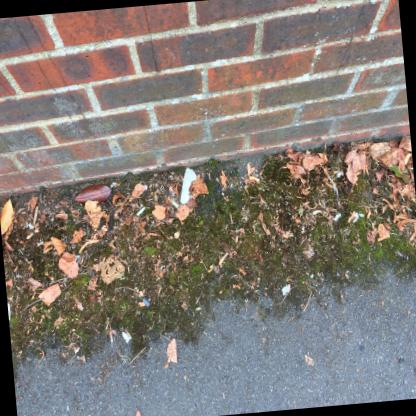Metal: (181, 166, 197, 203)
Plastic: (142, 295, 152, 307)
